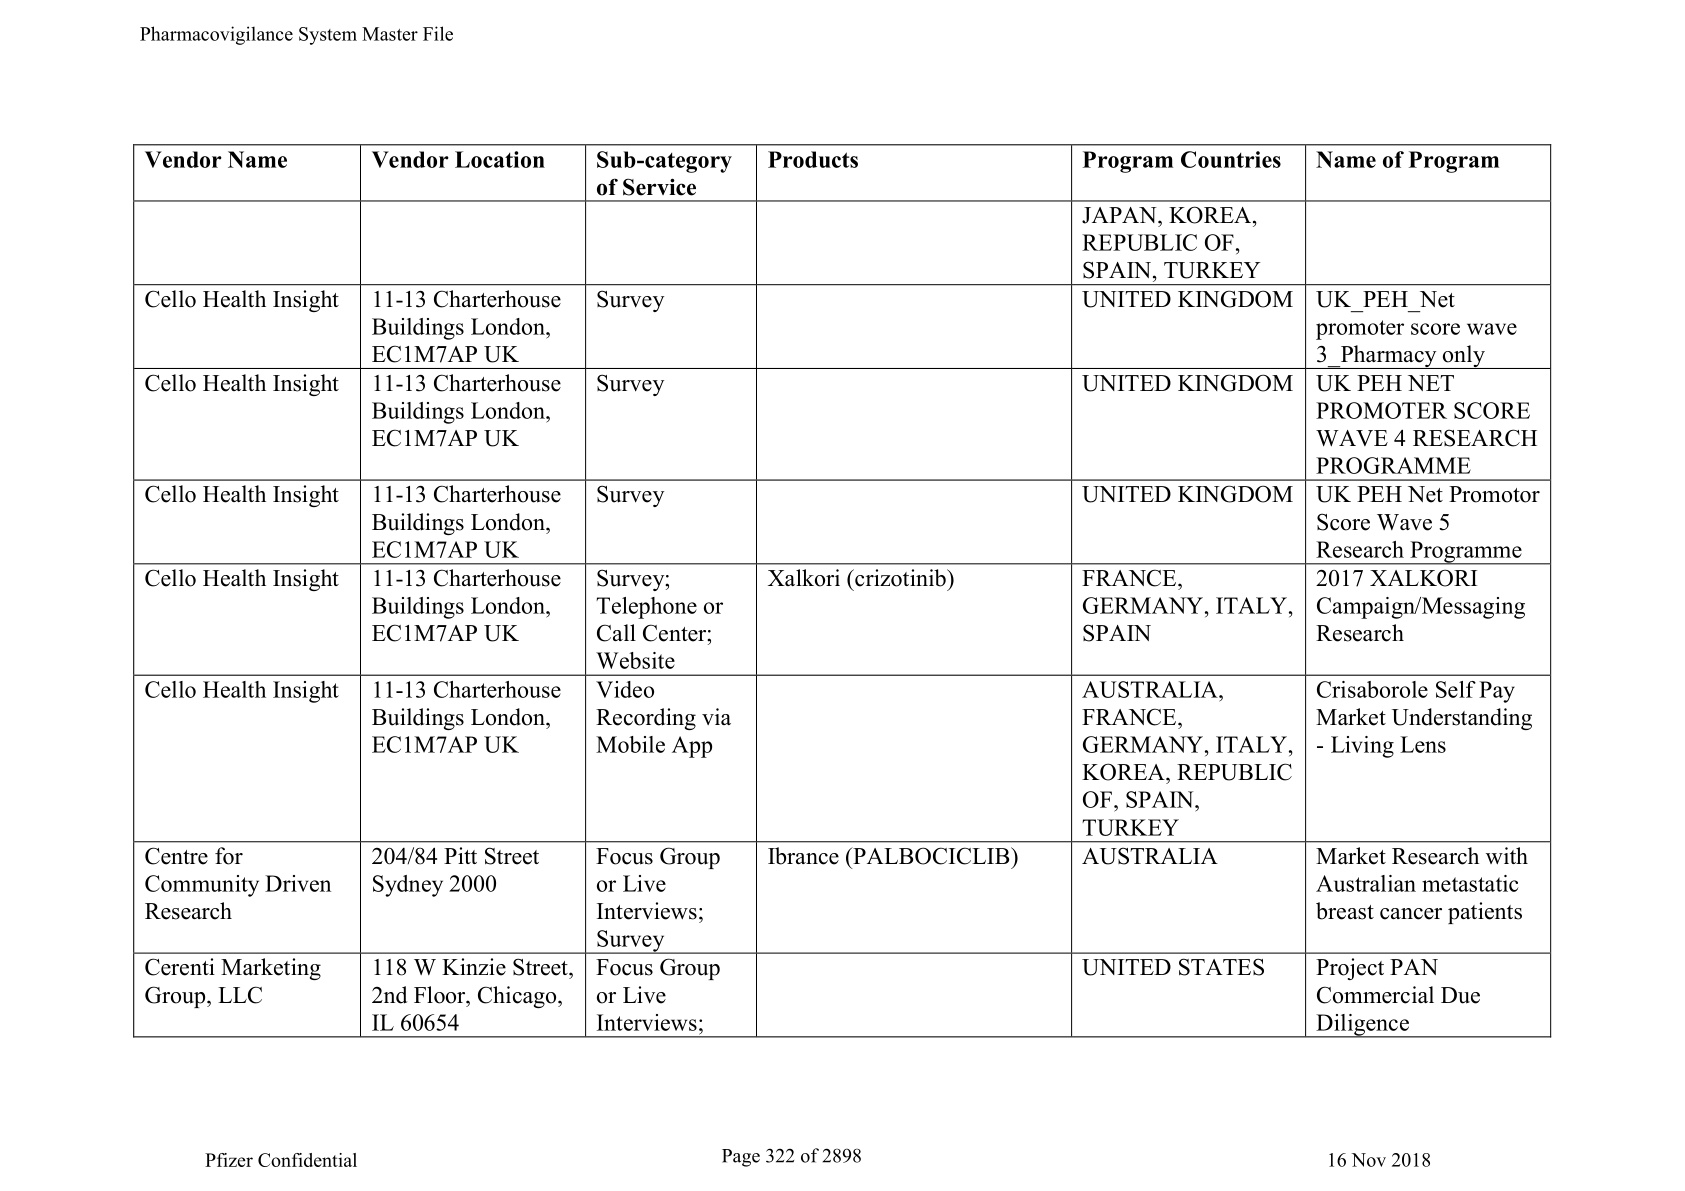full_lined: (131, 142, 1552, 1039)
